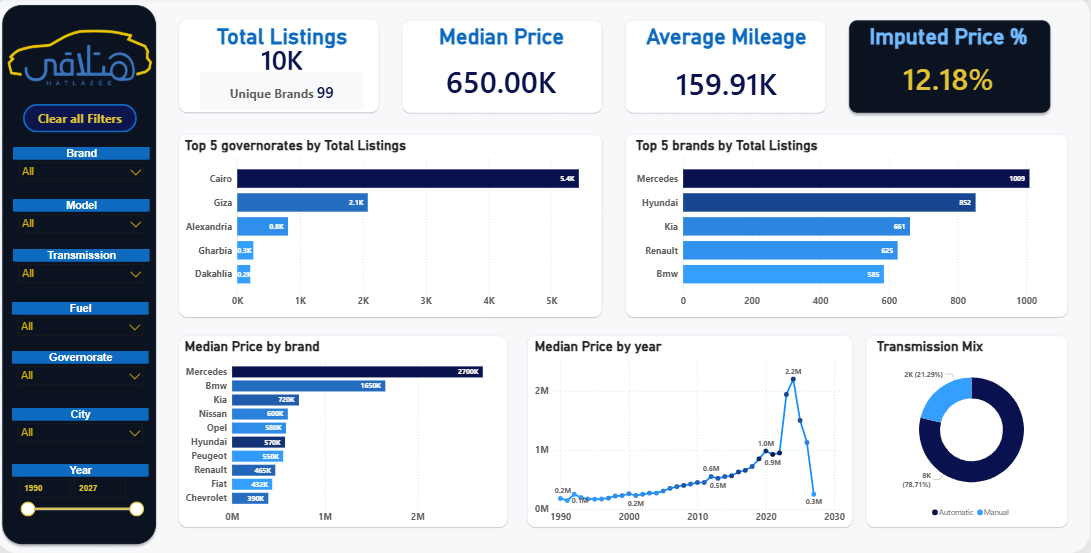

Layout of this report page (visuals, bound fields, positions):
{"tool":"powerbi","page":{"name":"Page 1","canvas":[1920,980],"ordinal":0},"visuals":[{"type":"cardVisual","title":"Average Mileage","fields":{"Data":["public cleaned_used_cars.Average Mileage"]},"box":[1101.2,47.4,360,159.8],"z":0},{"type":"cardVisual","title":"Total Listings","fields":{"Data":["public cleaned_used_cars.Total Listings"]},"box":[325.8,43.9,347.8,159.2],"z":1000},{"type":"cardVisual","title":"Median Price","fields":{"Data":["public cleaned_used_cars.Median Price"]},"box":[713,47.4,346,152.8],"z":2000},{"type":"barChart","title":"Top 5 governorates by Total Listings","fields":{"Category":["public cleaned_used_cars.governorate"],"Y":["public cleaned_used_cars.Total Listings"]},"box":[324.9,245.9,734.1,309.1],"z":3000},{"type":"clusteredBarChart","title":"Top 5 brands by Total Listings","fields":{"Category":["public cleaned_used_cars.brand"],"Y":["public cleaned_used_cars.Total Listings"]},"box":[1117,245.9,757,309.1],"z":4000},{"type":"slicer","title":"Year","fields":{"Values":["public cleaned_used_cars.year"]},"box":[26.3,821,240.5,103.3],"z":5000},{"type":"slicer","title":"Brand","fields":{"Values":["public cleaned_used_cars.brand"]},"box":[28.2,263,240.5,62],"z":6000},{"type":"slicer","title":"Model","fields":{"Values":["public cleaned_used_cars.model"]},"box":[28.2,355.1,240.5,67.6],"z":7000},{"type":"slicer","title":"Transmission","fields":{"Values":["public cleaned_used_cars.transmission"]},"box":[28.2,443.4,240.5,65.8],"z":8000},{"type":"slicer","title":"Fuel","fields":{"Values":["public cleaned_used_cars.fuel"]},"box":[26.3,535.4,240.5,63.9],"z":9000},{"type":"slicer","title":"Governorate","fields":{"Values":["public cleaned_used_cars.governorate"]},"box":[26.3,621.8,240.5,63.9],"z":10000},{"type":"cardVisual","title":"Imputed Price %","fields":{"Data":["public cleaned_used_cars.Imputed Price %"]},"box":[1494.6,47.4,353,140.5],"z":11000},{"type":"clusteredBarChart","fields":{"Category":["public cleaned_used_cars.brand"],"Y":["public cleaned_used_cars.Median Price"]},"box":[324.9,598.9,590.1,335.4],"z":12000},{"type":"lineChart","fields":{"Y":["public cleaned_used_cars.Median Price"],"Category":["public cleaned_used_cars.year"]},"box":[939.6,598.9,555,335.4],"z":13000},{"type":"donutChart","title":"Transmission Mix","fields":{"Category":["public cleaned_used_cars.transmission"],"Y":["public cleaned_used_cars.Total Listings"]},"box":[1540.3,598.9,342.5,324.9],"z":15000},{"type":"slicer","title":"City","fields":{"Values":["public cleaned_used_cars.city"]},"box":[26.3,721.4,240.5,80.8],"z":16000},{"type":"actionButton","box":[46.4,188.2,200,50],"z":17000}]}

Visuals, with their boxes in screenshot pixels (x1, y1, x2, y2), scaled from the page's 1920x980 canvas onto the 1091x553 screenshot:
"Average Mileage" cardVisual: (x1=626, y1=27, x2=830, y2=117)
"Total Listings" cardVisual: (x1=185, y1=25, x2=383, y2=115)
"Median Price" cardVisual: (x1=405, y1=27, x2=602, y2=113)
"Top 5 governorates by Total Listings" barChart: (x1=185, y1=139, x2=602, y2=313)
"Top 5 brands by Total Listings" clusteredBarChart: (x1=635, y1=139, x2=1065, y2=313)
"Year" slicer: (x1=15, y1=463, x2=152, y2=522)
"Brand" slicer: (x1=16, y1=148, x2=153, y2=183)
"Model" slicer: (x1=16, y1=200, x2=153, y2=239)
"Transmission" slicer: (x1=16, y1=250, x2=153, y2=287)
"Fuel" slicer: (x1=15, y1=302, x2=152, y2=338)
"Governorate" slicer: (x1=15, y1=351, x2=152, y2=387)
"Imputed Price %" cardVisual: (x1=849, y1=27, x2=1050, y2=106)
clusteredBarChart - public cleaned_used_cars.brand x public cleaned_used_cars.Median Price: (x1=185, y1=338, x2=520, y2=527)
lineChart - public cleaned_used_cars.Median Price x public cleaned_used_cars.year: (x1=534, y1=338, x2=849, y2=527)
"Transmission Mix" donutChart: (x1=875, y1=338, x2=1070, y2=521)
"City" slicer: (x1=15, y1=407, x2=152, y2=453)
actionButton: (x1=26, y1=106, x2=140, y2=134)
